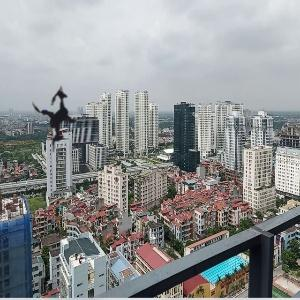drone: (4, 69, 108, 173)
